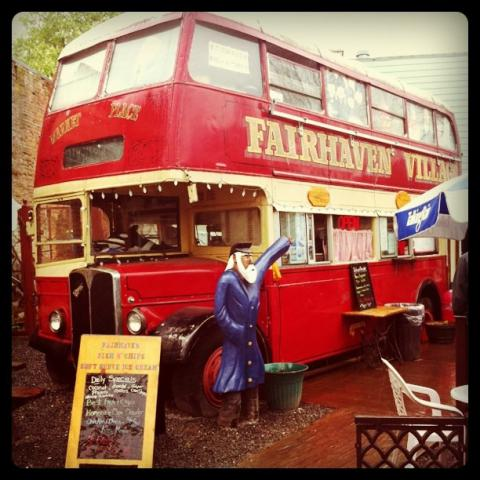bus: (25, 10, 463, 436)
